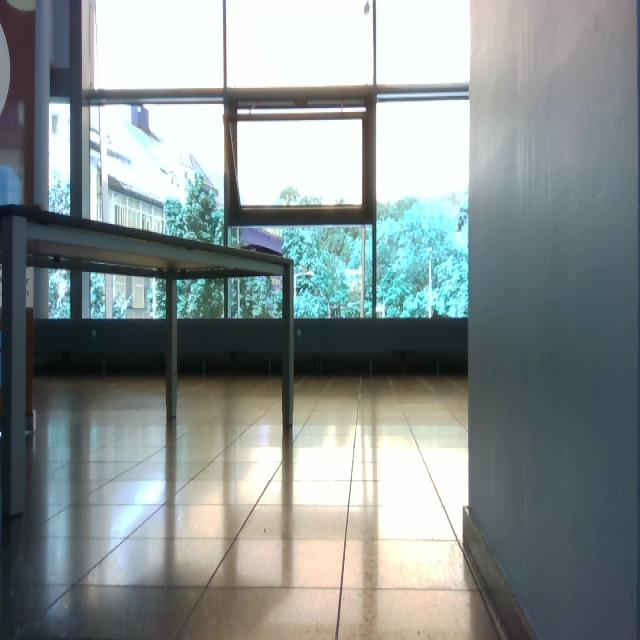light bulb: (52, 113, 59, 134), (364, 1, 371, 16)
pillar: (464, 1, 640, 640)
tiled floor: (2, 372, 503, 638)
window: (35, 1, 472, 325)
